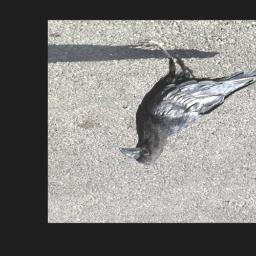Crow: (118, 40, 256, 167)
